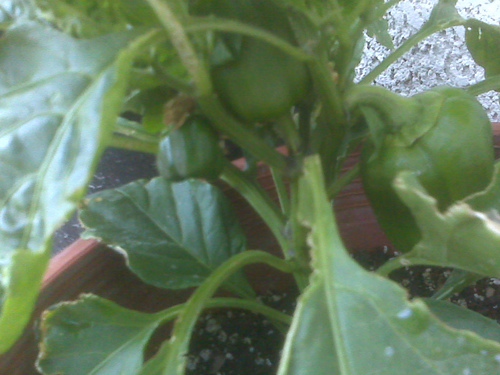capsicum: (339, 84, 494, 276), (208, 15, 328, 163), (158, 104, 230, 183)
